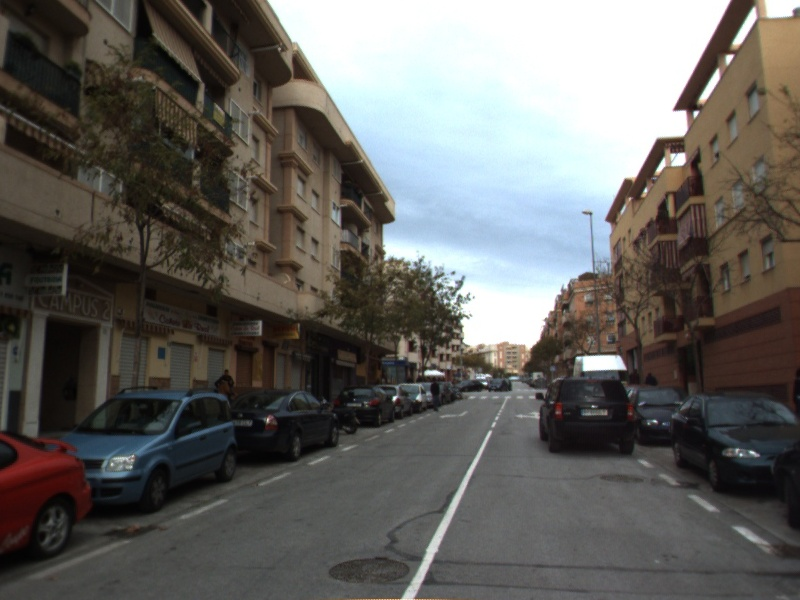STRAIGHT_LEFT: (513, 409, 542, 421)
